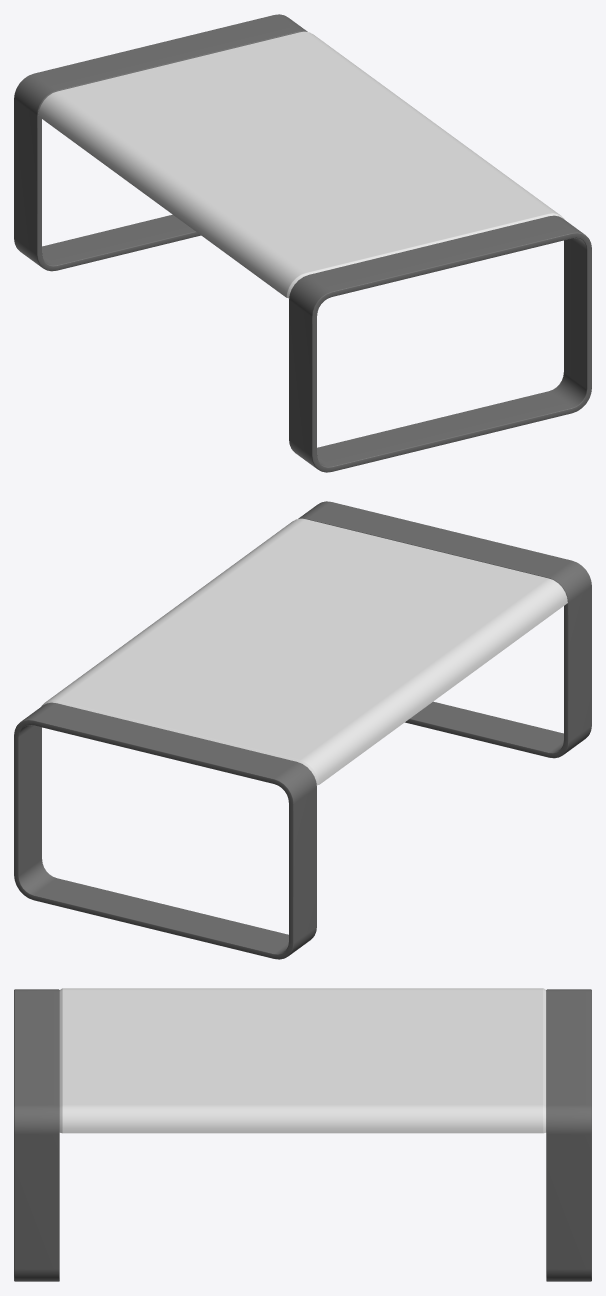
Rendered from SM_Props_TableEmployeeSquare_A_V3.fbx.
3 views of the same model, one above another, from view 1: azimuth 30°, elevation 25°; view 2: azimuth 150°, elevation 25°; view 3: azimuth 270°, elevation 25° (orthographic). The views are drawn at different scales.
Parts seen in each view (by area): view 1: SM_Props_TableEmployeeSquare_A_V3; view 2: SM_Props_TableEmployeeSquare_A_V3; view 3: SM_Props_TableEmployeeSquare_A_V3.
Boxes of the visible parts, x1,y1,x2,y2 form: SM_Props_TableEmployeeSquare_A_V3: [14, 14, 591, 472]; SM_Props_TableEmployeeSquare_A_V3: [14, 501, 591, 959]; SM_Props_TableEmployeeSquare_A_V3: [14, 988, 591, 1281].
Size of the model in its own units: 148 by 272 by 91.04.
2 materials, 2 textured.
